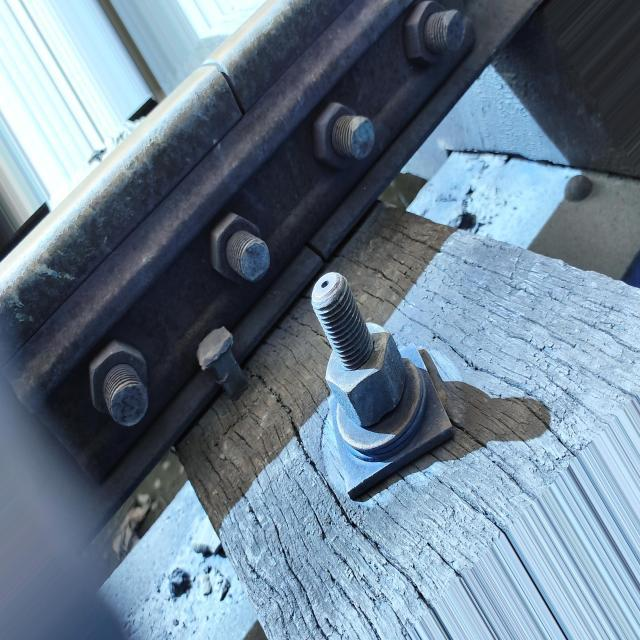Good Fasteners: (311, 272, 450, 498), (197, 327, 248, 399)
Good Joint: (0, 0, 542, 530)
